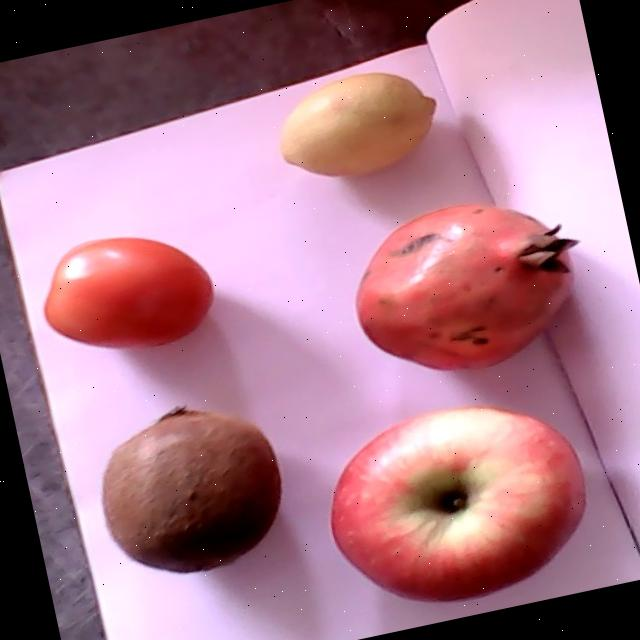apple: (331, 405, 584, 601)
kiwi: (101, 404, 281, 571)
lemon: (280, 73, 435, 175)
pomegranate: (356, 202, 579, 368)
tomato: (43, 236, 211, 347)
